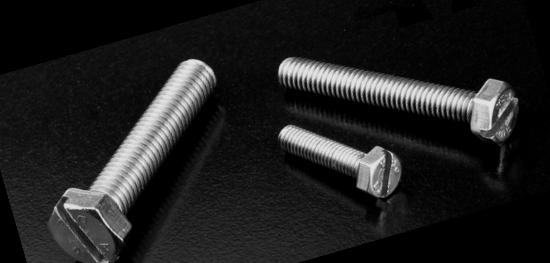screw: (41, 173, 139, 263), (462, 74, 531, 146), (346, 138, 408, 204)
